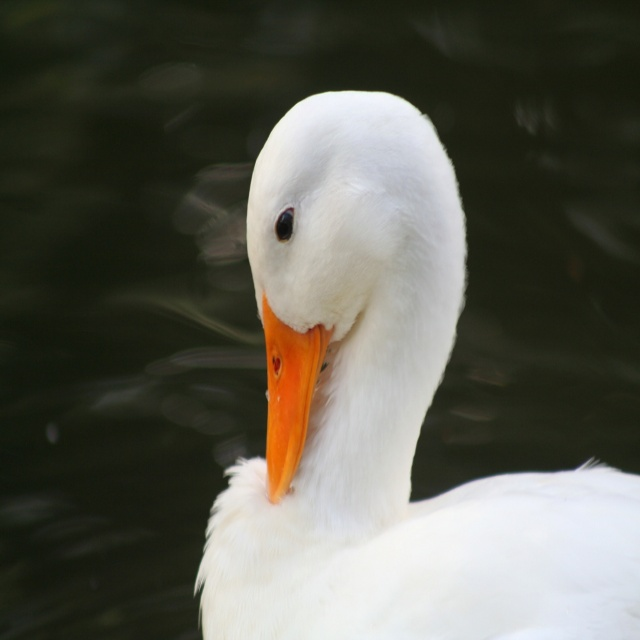Duck: (198, 88, 582, 640)
